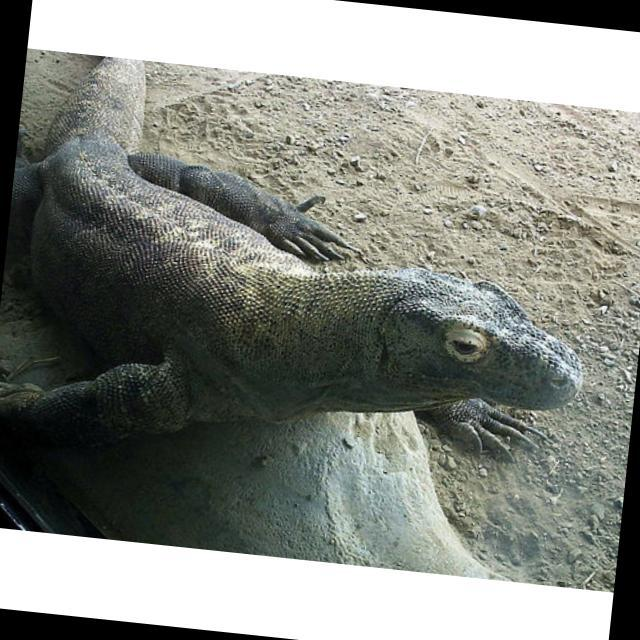KomodoDragon: (0, 49, 615, 517)
